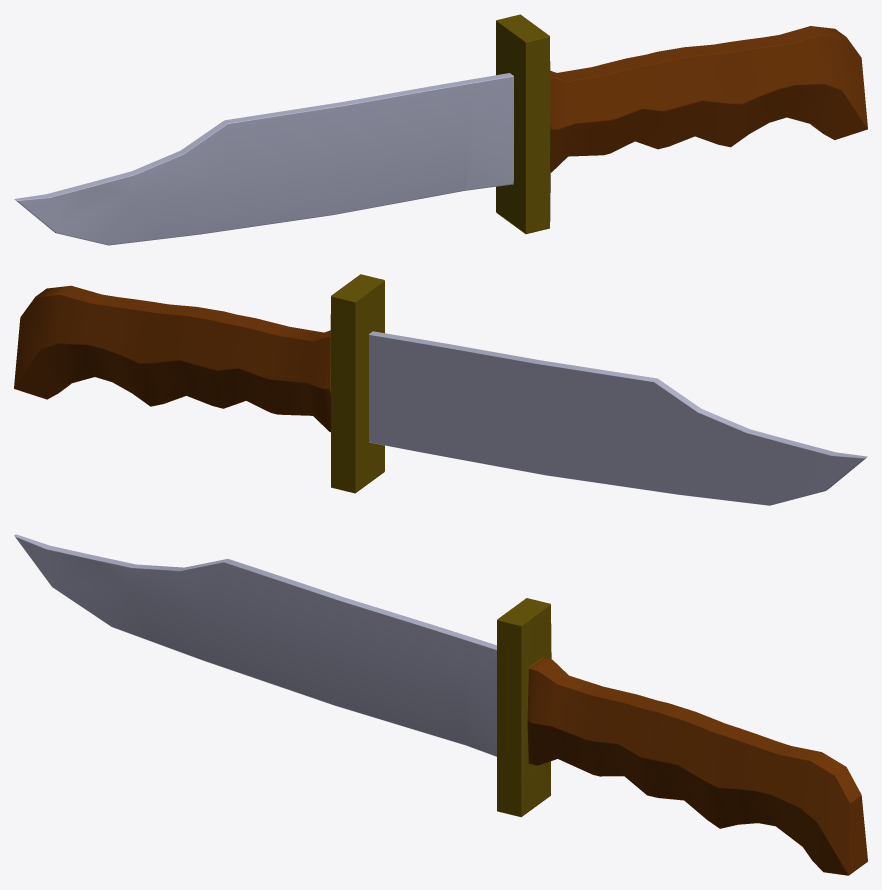
File: bicak.fbx
The picture shows the model from 3 angles, top to bottom: view 1: azimuth 30°, elevation 25°; view 2: azimuth 150°, elevation 25°; view 3: azimuth 330°, elevation 25°; orthographic projection.
Visible parts, largest first — view 1: Cube; view 2: Cube; view 3: Cube.
Part boxes in pixels (box(x1,y1,x2,y2)): Cube: box(14, 14, 867, 245); Cube: box(14, 274, 867, 505); Cube: box(14, 534, 867, 875).
Bounding box in the file's own units: 322 × 70.12 × 19.7.
